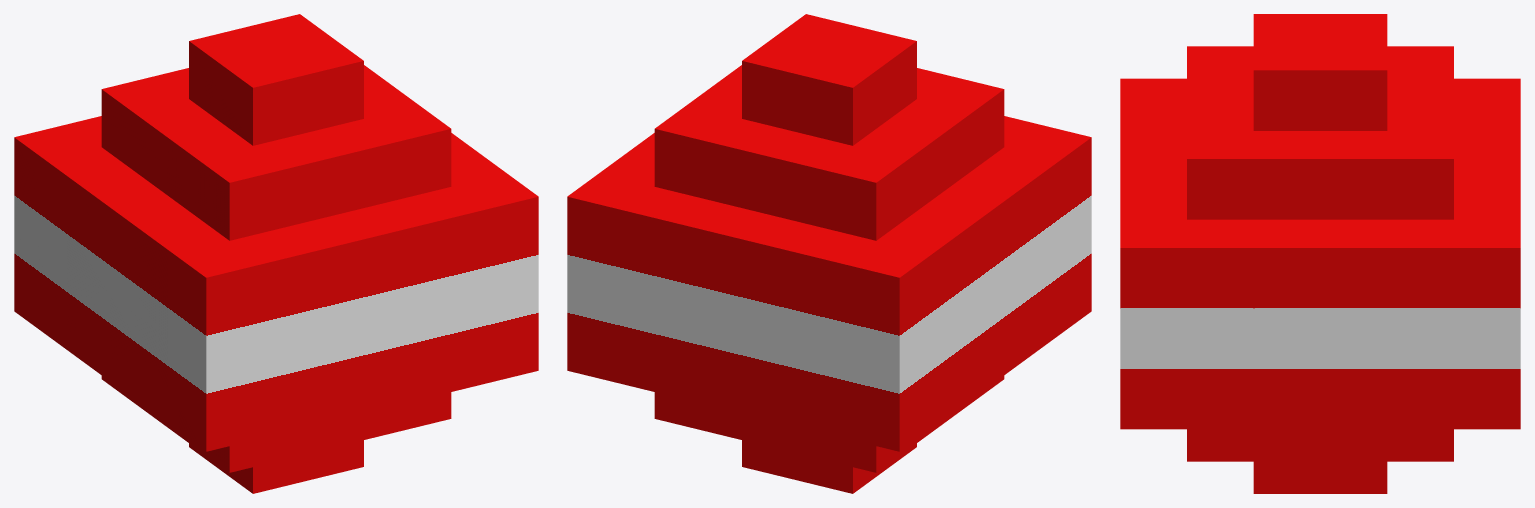
File: Ball.dae
The picture shows the model from 3 angles, left to right: view 1: azimuth 30°, elevation 25°; view 2: azimuth 150°, elevation 25°; view 3: azimuth 270°, elevation 25°; orthographic projection. The views are drawn at different scales.
Visible parts, largest first — view 1: Ball; view 2: Ball; view 3: Ball.
Boxes of the visible parts, x1,y1,x2,y2 form: Ball: (14, 14, 538, 493); Ball: (567, 14, 1091, 493); Ball: (1120, 14, 1520, 493).
Size of the model in its own units: 6 by 7 by 6.
1 material, 1 textured.
